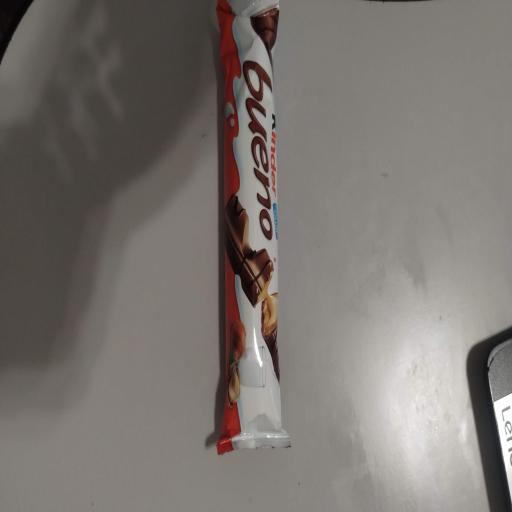chocolate: (217, 0, 290, 454)
